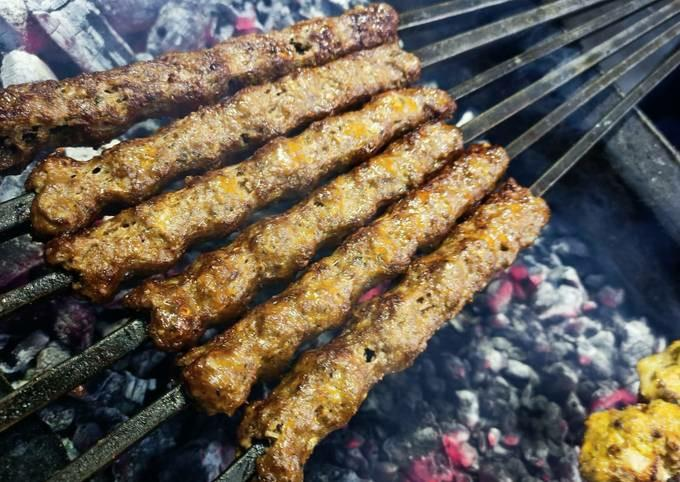Kebab: (237, 177, 550, 482), (177, 142, 508, 420), (43, 88, 456, 300), (25, 42, 420, 240), (129, 121, 464, 350), (0, 4, 398, 165)
